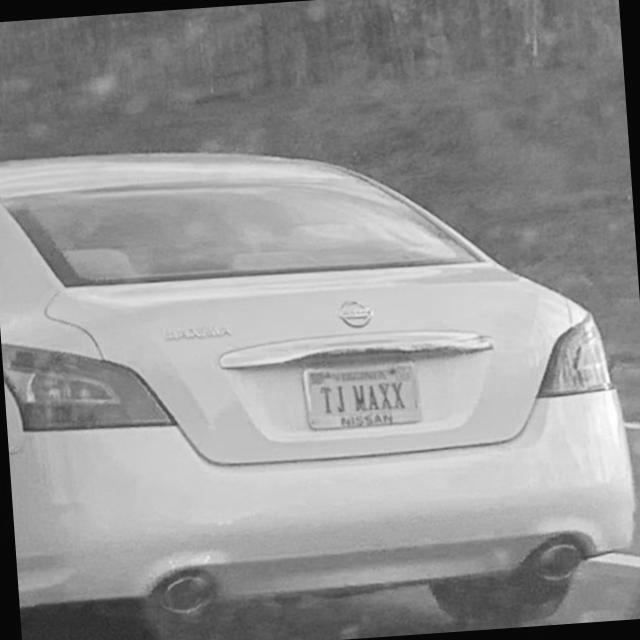LicensePlate: (301, 358, 422, 431)
